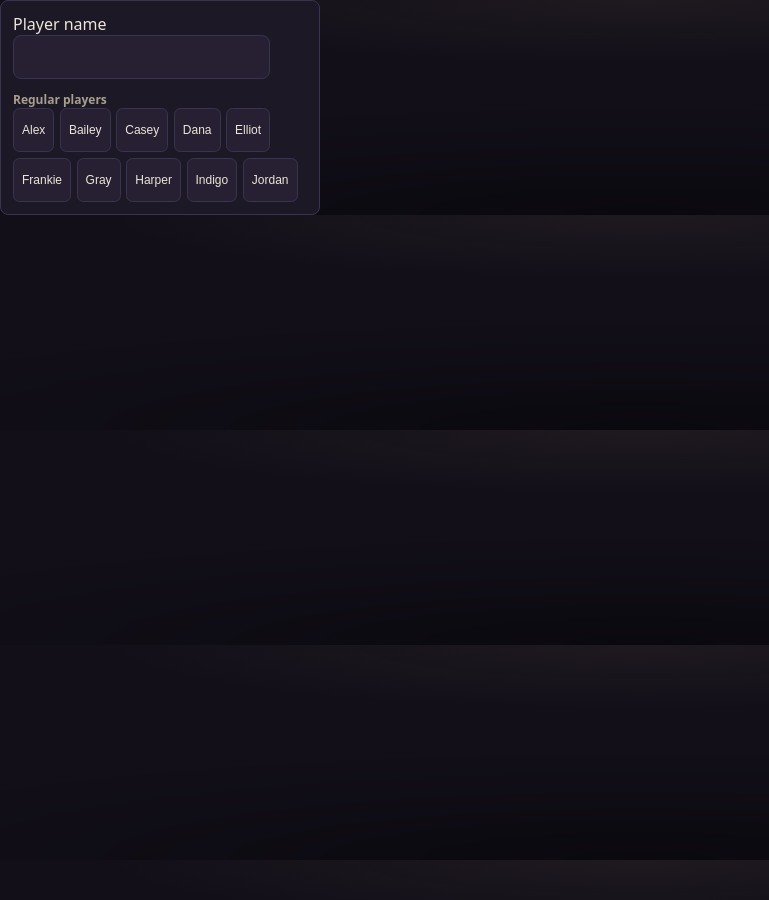
Scenario: naming yourself from the same input when there's no matching player (issue #157) › offers 'name yourself' for text that is only a substring of a regular player's name, not an exact match (code review finding)
In the field: (142, 57) [13,35,270,79], type "an"
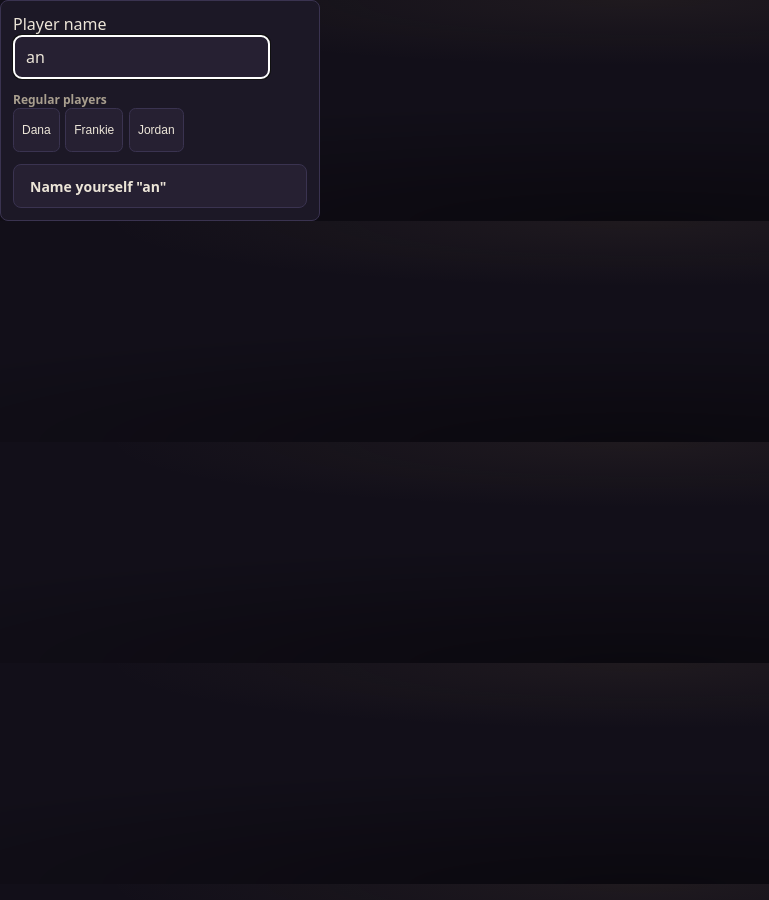
Check: the button "Dana" is shown, box [13,108,60,152]
Check: the button "Jordan" is shown, box [129,108,184,152]
Check: the button "Name yourself \"an\"" is shown, box [13,164,307,208]
